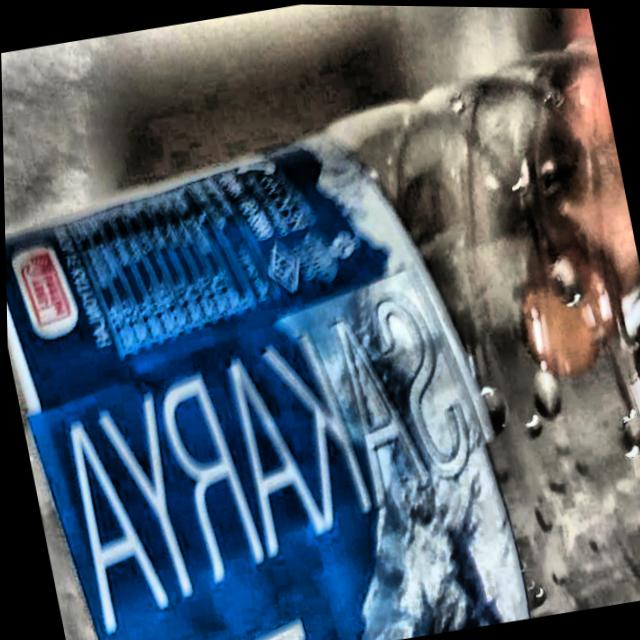plastic: (4, 31, 640, 640)
